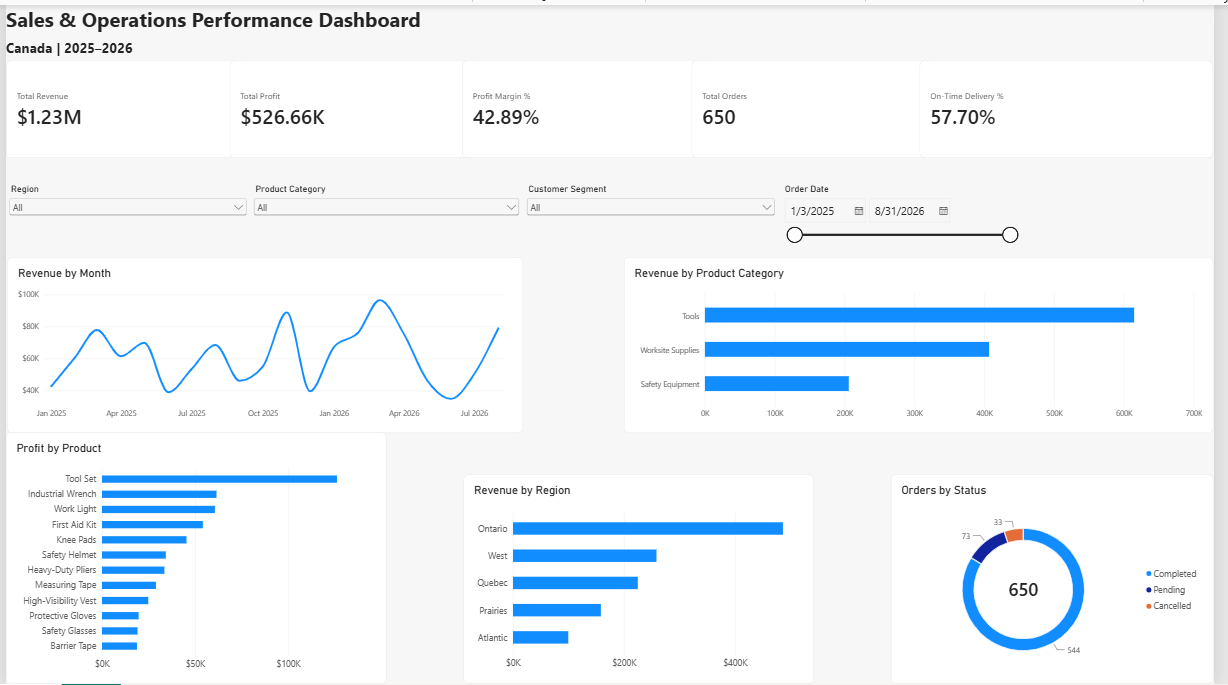

The page's visual inventory and layout, read from the dashboard file:
{"tool":"powerbi","page":{"name":"Page 1","canvas":[1920,1080],"ordinal":0},"visuals":[{"type":"cardVisual","title":"Total Revenue","fields":{"Data":["Sales_Data.Total Revenue"]},"box":[0,87.5,387.5,155],"z":0},{"type":"cardVisual","fields":{"Data":["Sales_Data.Total Profit"]},"box":[355,87.5,402.5,155],"z":1000},{"type":"cardVisual","fields":{"Data":["Sales_Data.Profit Margin %"]},"box":[725,87.5,397.5,155],"z":2000},{"type":"cardVisual","fields":{"Data":["Sales_Data.Total Orders"]},"box":[1090,87.5,395,155],"z":3000},{"type":"cardVisual","fields":{"Data":["Sales_Data.On-Time Delivery %"]},"box":[1452.5,87.5,467.5,155],"z":4000},{"type":"lineChart","title":"Revenue by Month","fields":{"Category":["Sales_Data.Month Start"],"Y":["Sales_Data.Total Revenue"]},"box":[2.5,400,820,280],"z":5000},{"type":"clusteredBarChart","title":"Revenue by Product Category","fields":{"Category":["Sales_Data.ProductCategory"],"Y":["Sales_Data.Total Revenue"]},"box":[982.5,400,937.5,280],"z":6000},{"type":"clusteredBarChart","title":"Revenue by Region","fields":{"Category":["Sales_Data.Region"],"Y":["Sales_Data.Total Revenue"]},"box":[727.5,747.5,557.5,332.5],"z":7000},{"type":"clusteredBarChart","title":"Profit by Product","fields":{"Category":["Sales_Data.Product"],"Y":["Sales_Data.Total Profit"]},"box":[0,680,605,400],"z":8000},{"type":"donutChart","title":"Orders by Status","fields":{"Category":["Sales_Data.OrderStatus"],"Y":["Sales_Data.Total Orders"]},"box":[1407.5,747.5,512.5,332.5],"z":9000},{"type":"slicer","fields":{"Values":["Sales_Data.Region"]},"box":[0,285,387.5,185],"z":10000},{"type":"slicer","fields":{"Values":["Sales_Data.CustomerSegment"]},"box":[823.3,285,405,185],"z":11000},{"type":"slicer","fields":{"Values":["Sales_Data.ProductCategory"]},"box":[389.2,285,432.5,185],"z":12000},{"type":"slicer","fields":{"Values":["Sales_Data.OrderDate"]},"box":[1230,285,382.5,190],"z":13000},{"type":"textbox","box":[0,0,685,52.5],"z":14000},{"type":"textbox","box":[0,52.5,342.5,67.5],"z":15000}]}

Visuals, with their boxes in screenshot pixels (x1, y1, x2, y2), scaled from the page's 1920x1080 canvas onto the 1228x685 screenshot:
"Total Revenue" cardVisual: 0/55/248/154
cardVisual - Sales_Data.Total Profit: 227/55/484/154
cardVisual - Sales_Data.Profit Margin %: 464/55/718/154
cardVisual - Sales_Data.Total Orders: 697/55/950/154
cardVisual - Sales_Data.On-Time Delivery %: 929/55/1227/154
"Revenue by Month" lineChart: 2/254/526/431
"Revenue by Product Category" clusteredBarChart: 628/254/1227/431
"Revenue by Region" clusteredBarChart: 465/474/822/684
"Profit by Product" clusteredBarChart: 0/431/387/684
"Orders by Status" donutChart: 900/474/1227/684
slicer - Sales_Data.Region: 0/181/248/298
slicer - Sales_Data.CustomerSegment: 527/181/786/298
slicer - Sales_Data.ProductCategory: 249/181/526/298
slicer - Sales_Data.OrderDate: 787/181/1031/301
textbox: 0/0/438/33
textbox: 0/33/219/76
